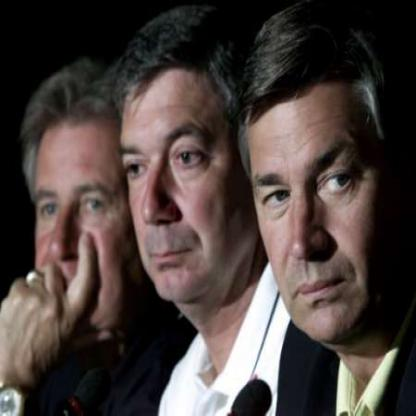face: (245, 22, 411, 351), (115, 31, 259, 313), (26, 82, 145, 339)
